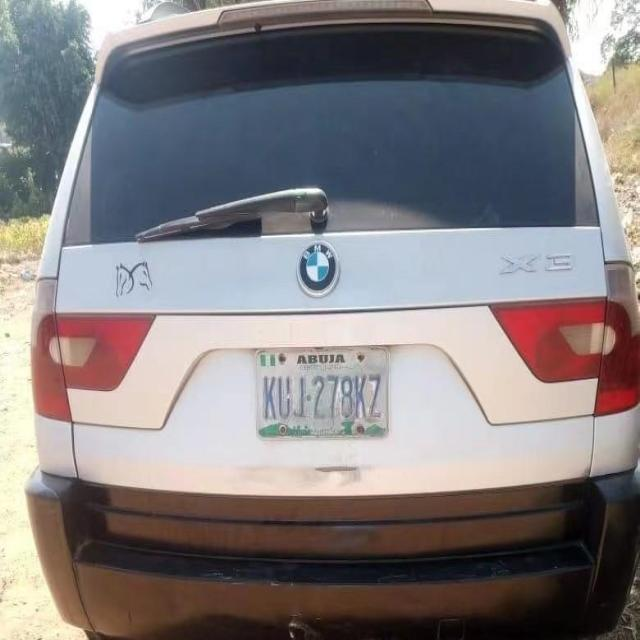Nigerian License Plate - vdataset benjamin-daria: (255, 348, 388, 436)
